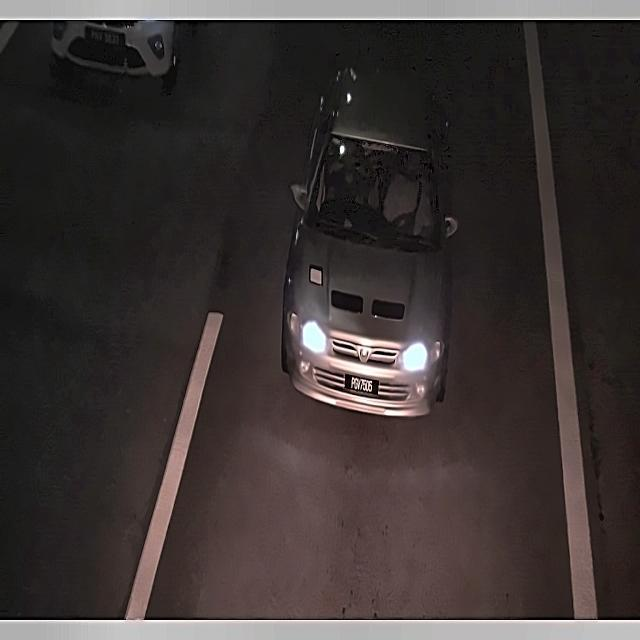car: (341, 368, 384, 407), (82, 20, 124, 56)
